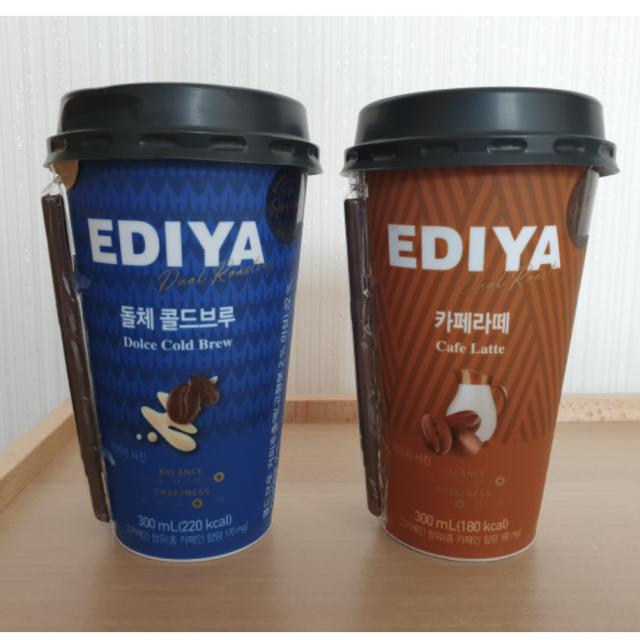recyclable: (315, 66, 627, 580), (37, 68, 328, 568)
